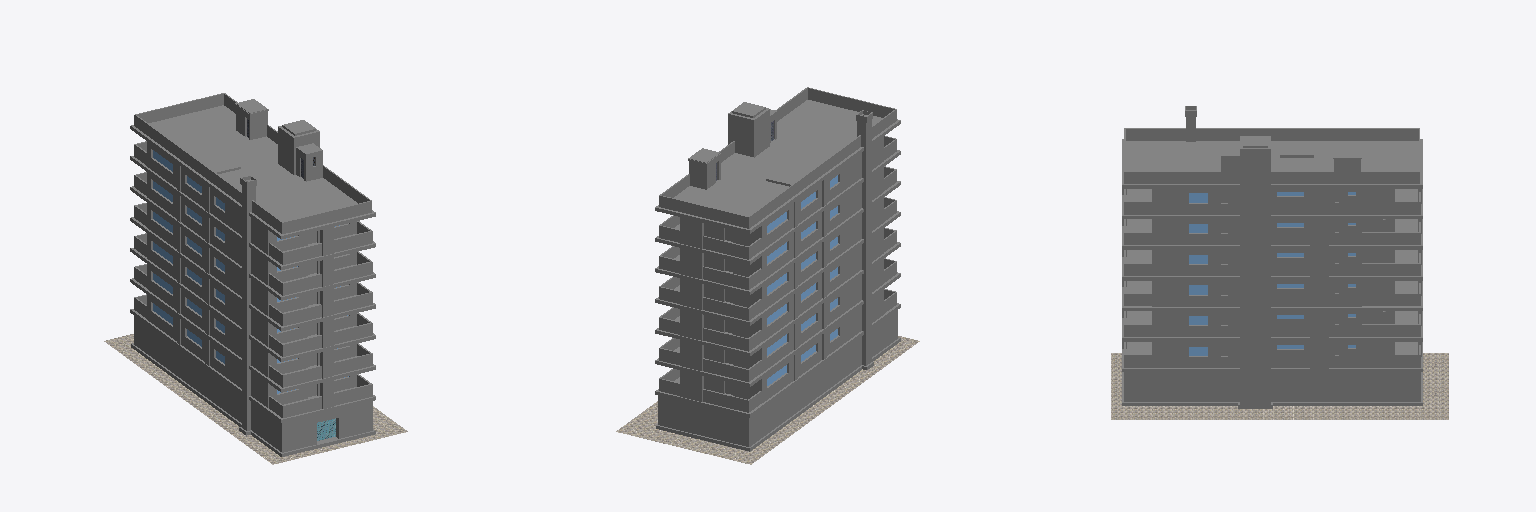
The picture shows the model from 3 angles: view 1: azimuth 30°, elevation 25°; view 2: azimuth 150°, elevation 25°; view 3: azimuth 270°, elevation 25°; orthographic projection.
Visible parts, largest first — view 1: mesh1; view 2: mesh1; view 3: mesh1.
Part boxes in pixels (x1,y1,x2,y2): mesh1: (104,93,407,464); mesh1: (616,87,919,464); mesh1: (1111,106,1448,419).
Size of the model in its own units: 750 by 1379 by 1622.
31 materials, 7 textured.